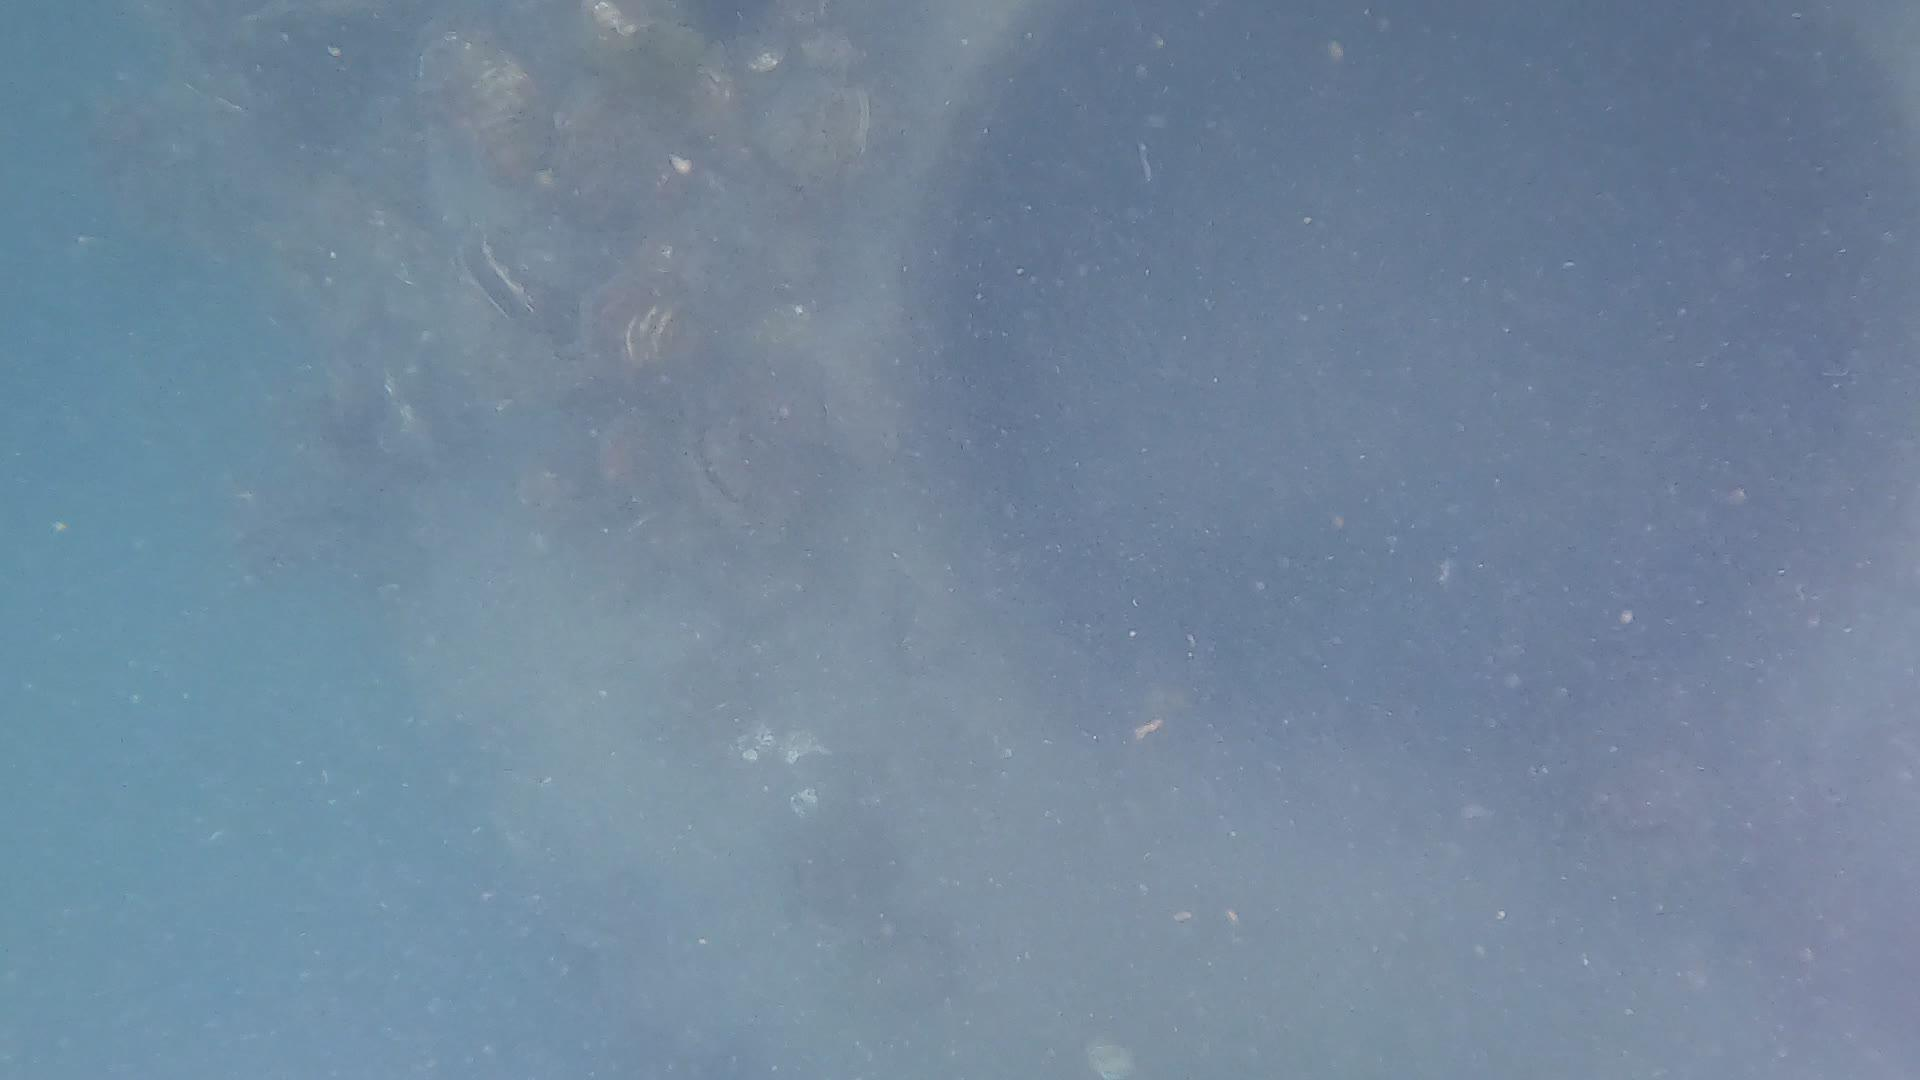tire: (384, 0, 1920, 1080)
